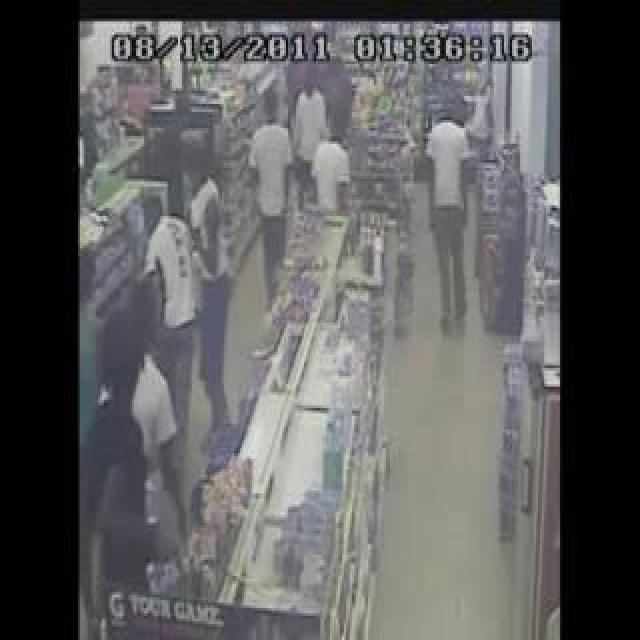thief: (262, 64, 332, 186), (91, 301, 166, 407), (145, 171, 229, 252), (404, 99, 466, 186)
